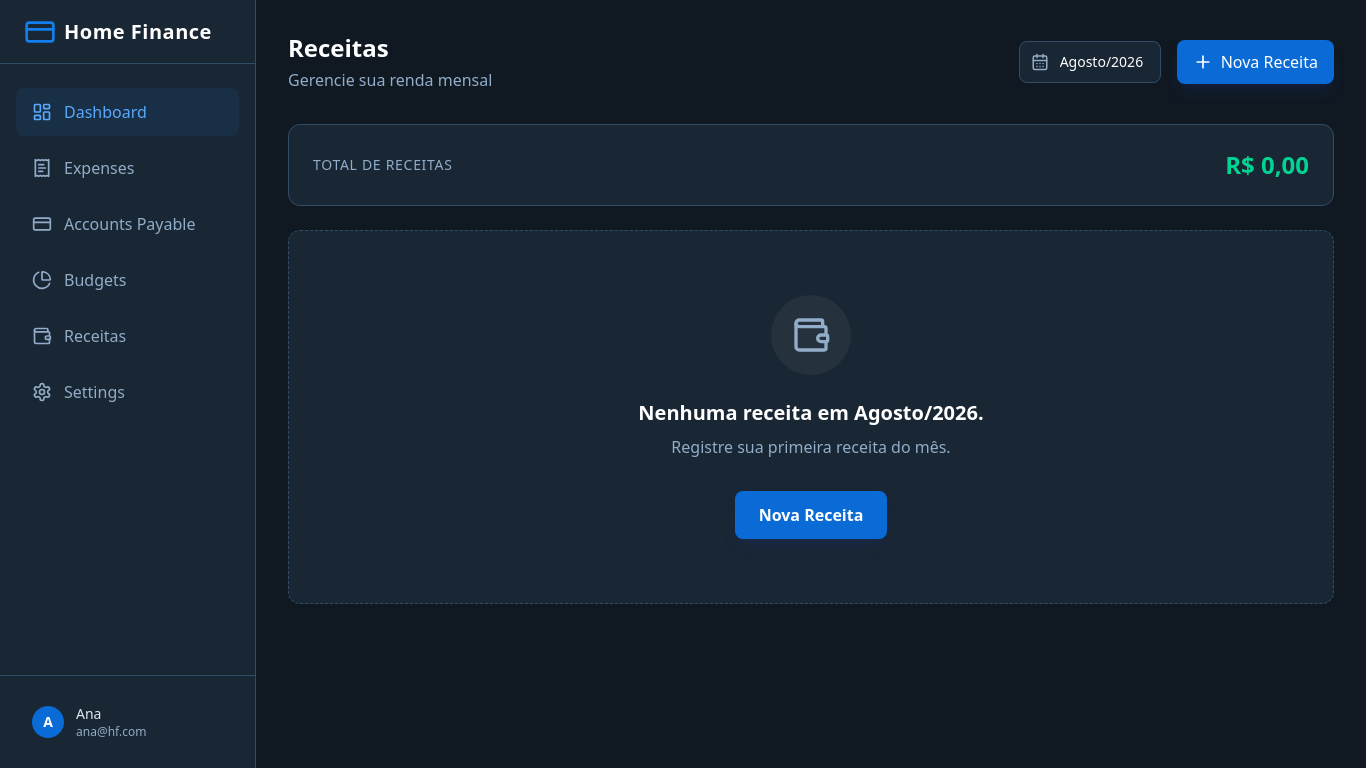
Income (integração) › abre o modal de Nova Receita
The image size is (1366, 768).
Click the button "Nova Receita" in the row of "Gerencie sua renda mensal".
click(1255, 62)  # box [1177,40,1334,84]
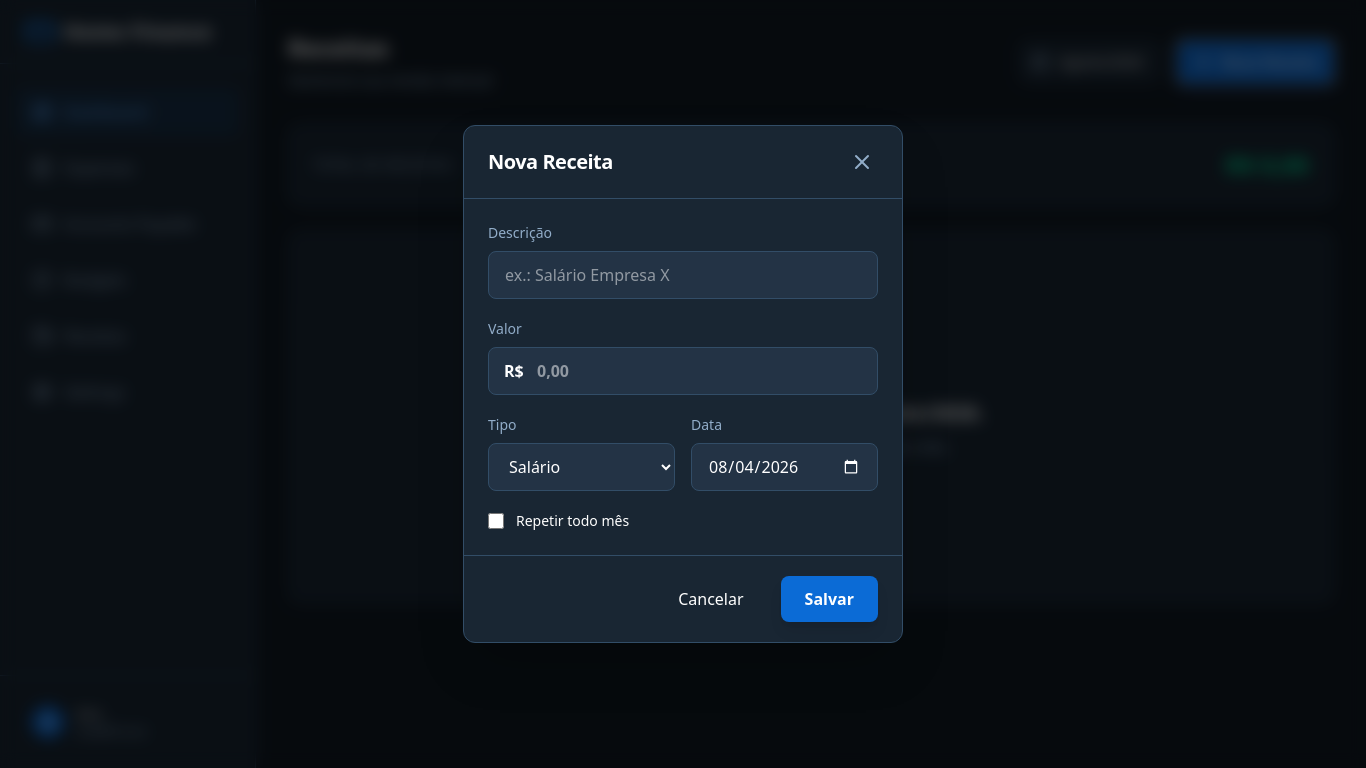
Now the heading "Nova Receita" is shown, box [488,148,613,176]
